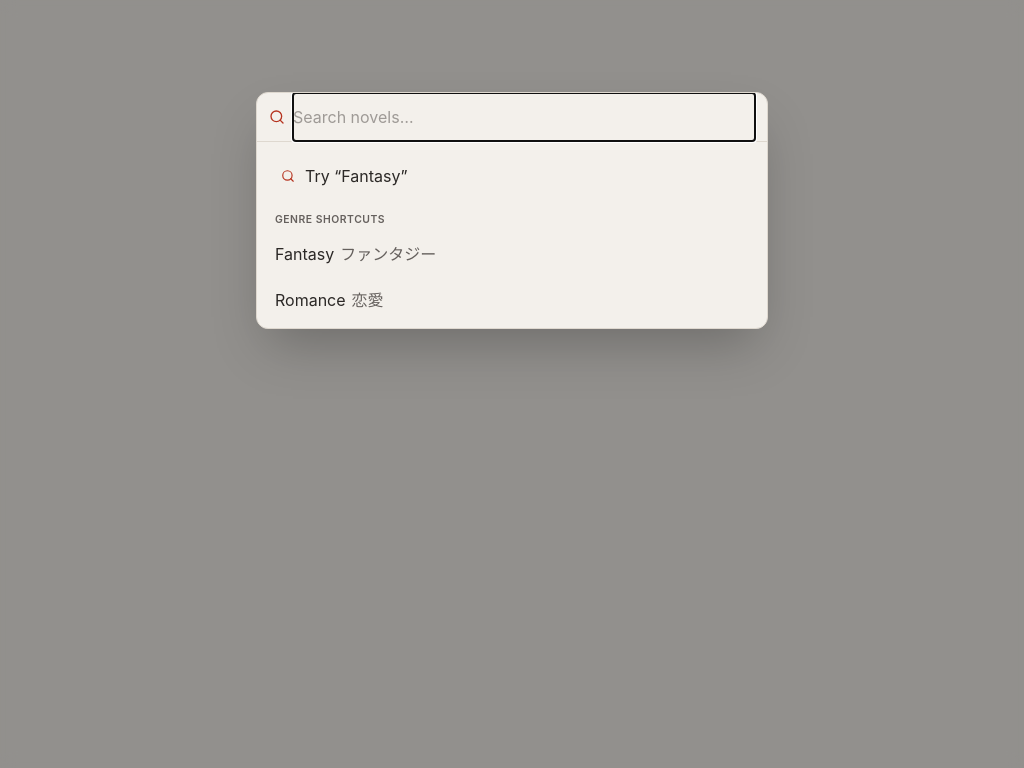
Test case: SearchOverlay live results › cancels the in-flight request when a new keystroke lands
In the search field labelled "Search novels…": [524, 117] box [293,93,755,141], type "dragon"
Wait 225 ms
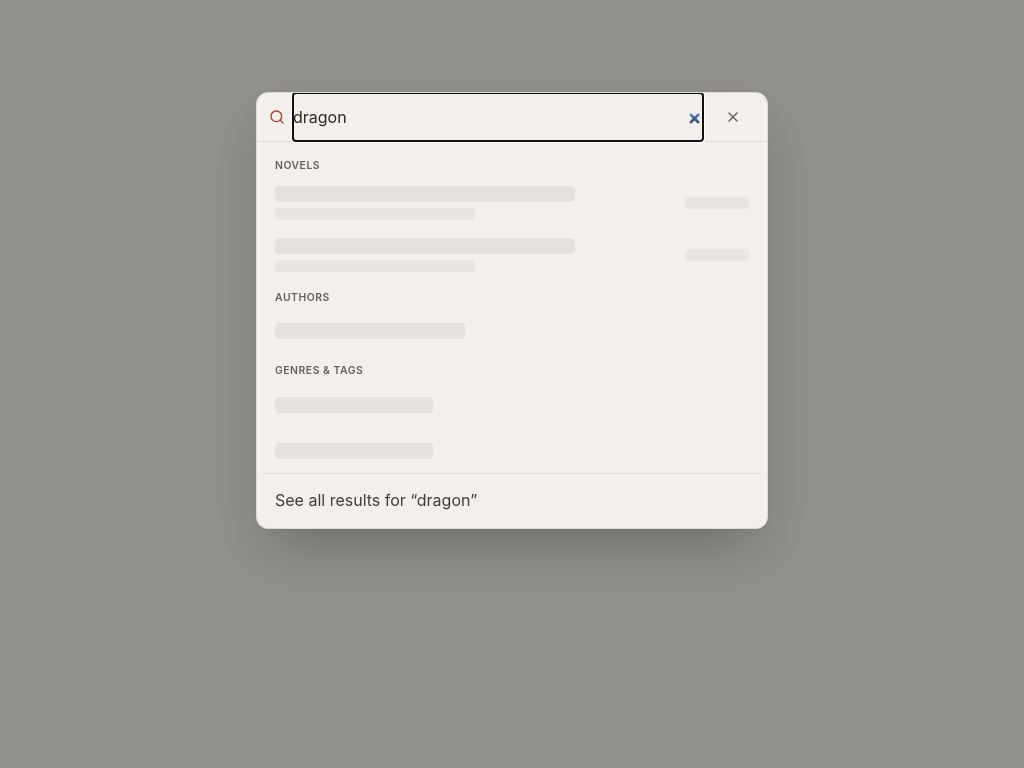
Replace the text in the search field named "Search" with "dragon king": [498, 117] box [293,93,703,141]
Wait 250 ms
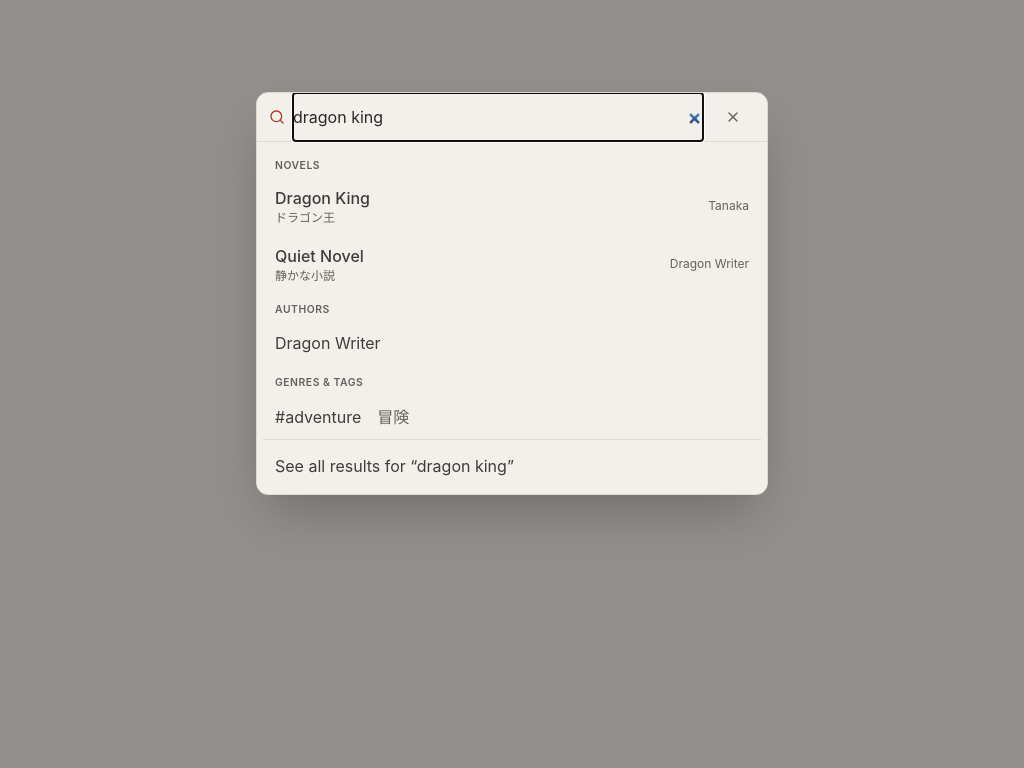
Expected: the text "Dragon King" is shown, [275,188,370,208]
